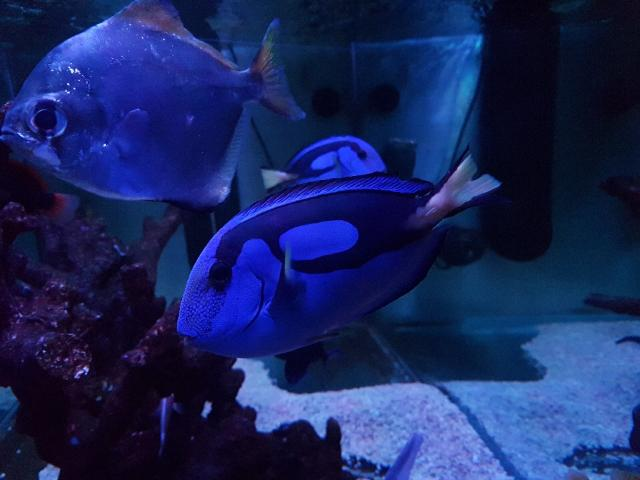Mulut: (156, 310, 214, 380)
Sirip Anal: (351, 221, 464, 325)
Sirip Dada: (252, 231, 320, 333)
Sirip Ekor: (406, 133, 514, 230)
Sirip Perut: (289, 322, 349, 351)
Sirip Punggung: (226, 168, 439, 226)
